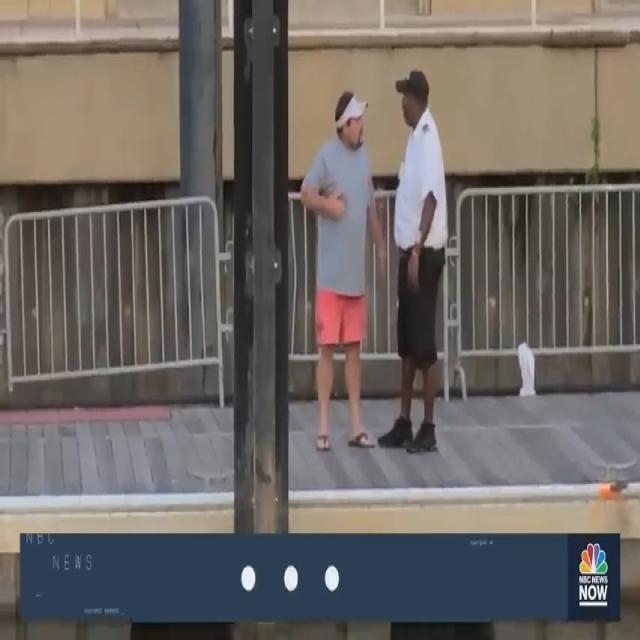non-fight: (298, 64, 452, 458)
